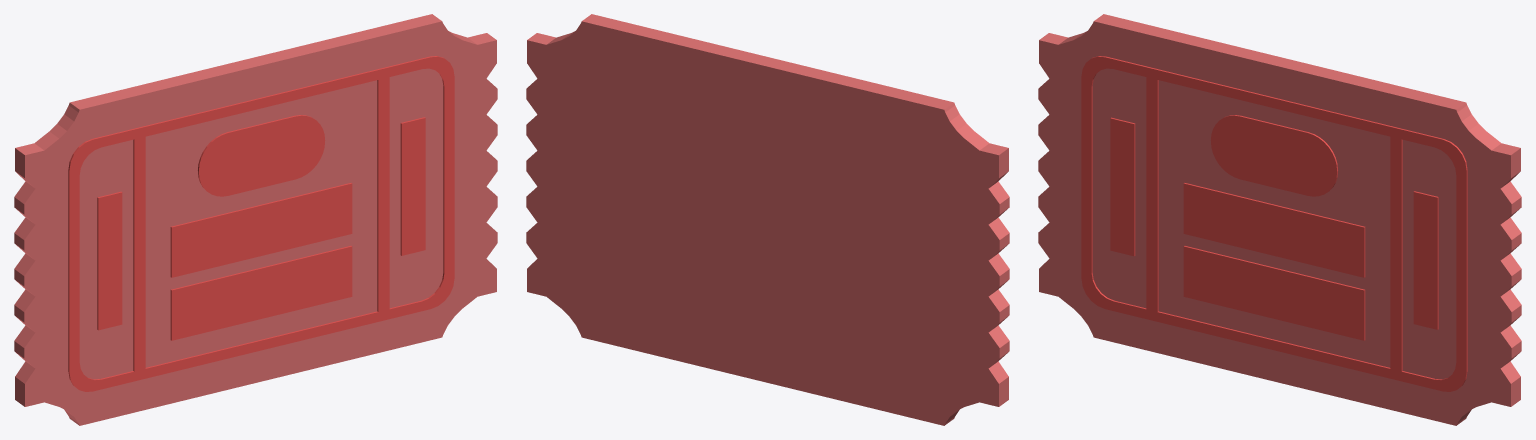
Rendered from admission_tickets.glb.
The picture shows the model from 3 angles, left to right: view 1: azimuth 30°, elevation 25°; view 2: azimuth 150°, elevation 25°; view 3: azimuth 330°, elevation 25°; orthographic projection.
Parts seen in each view (by area): view 1: Cube.806; view 2: Cube.806; view 3: Cube.806.
Boxes of the visible parts, <box> form: Cube.806: <box>14,14,497,425</box>; Cube.806: <box>526,14,1009,425</box>; Cube.806: <box>1038,14,1521,425</box>.
Size of the model in its own units: 2.25 by 1.43 by 0.0905.
1 material, 1 textured.
